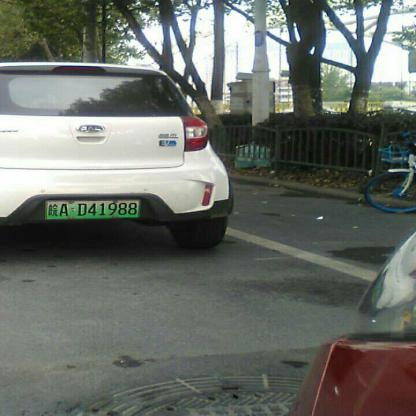lp: (48, 200, 138, 219)
